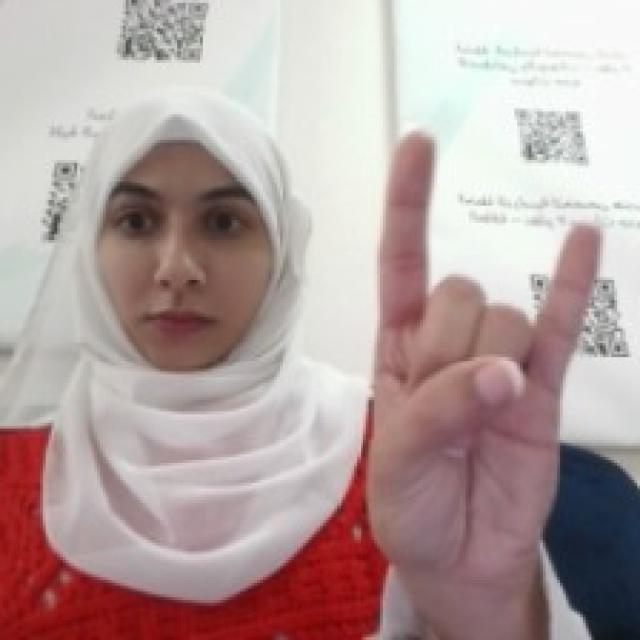No: (357, 118, 605, 580)
